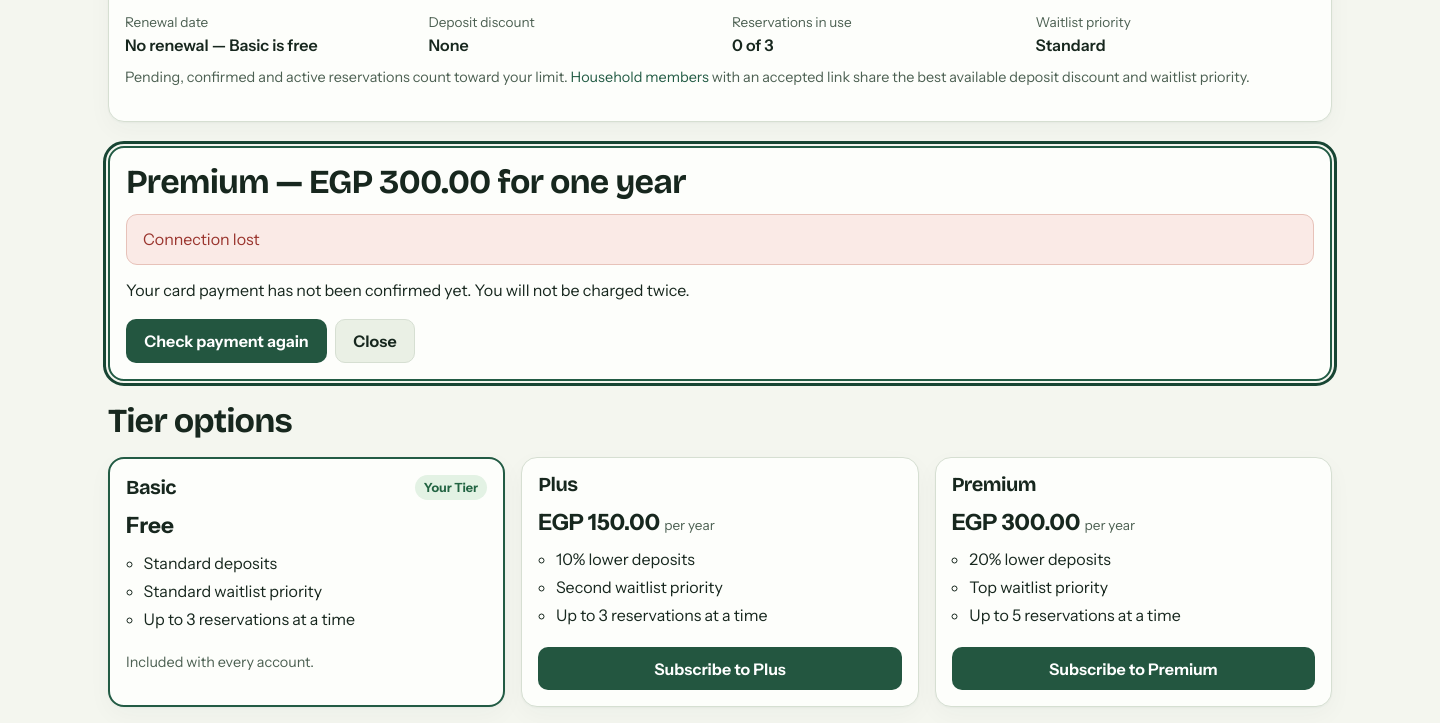
membership payment and cancellation › checks the saved card after returning and preserves the key across an outage
(page scrolled)
Expected: the text "Connection lost" is shown, [126,214,1314,265]
Step 1. Click the button "Check payment again" → [226, 341], box [126,319,327,363]
(page scrolled)
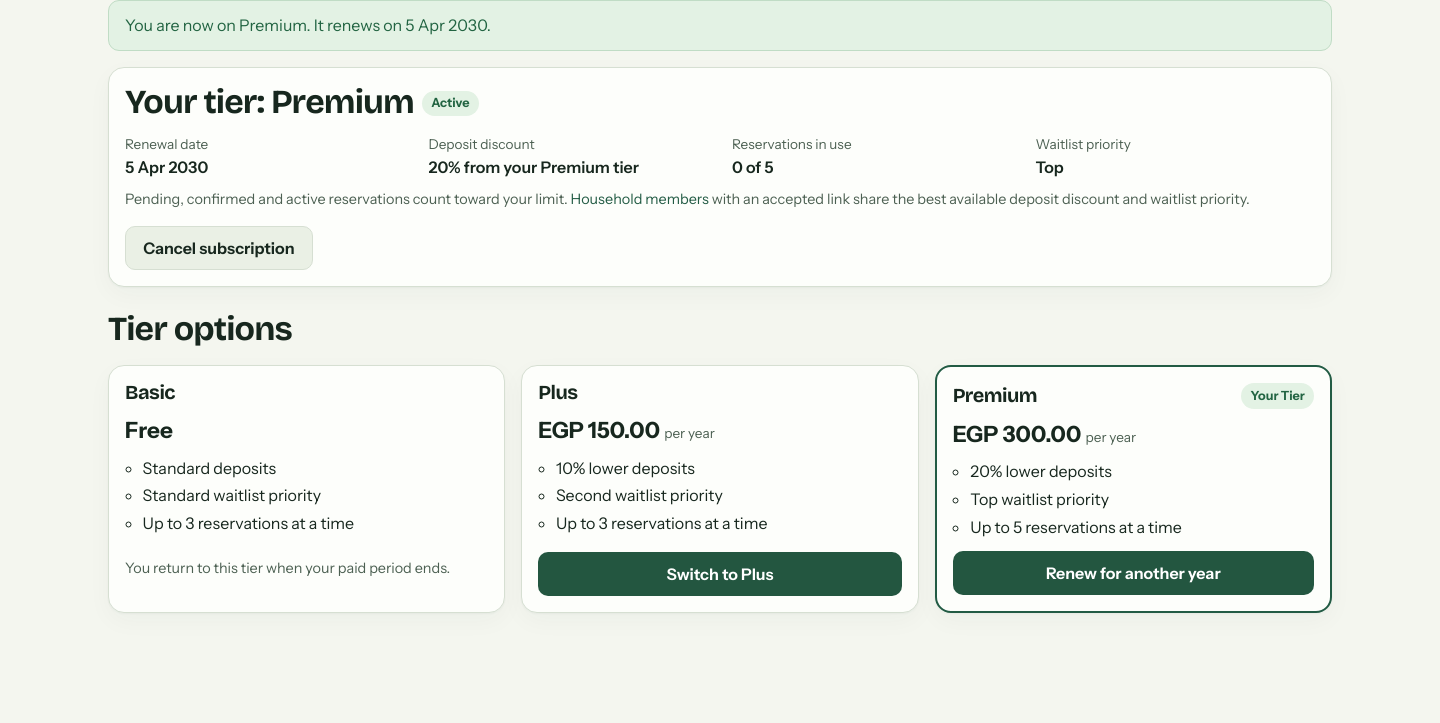
Expected: the heading "Your tier: Premium" is shown, [125,84,414,122]
